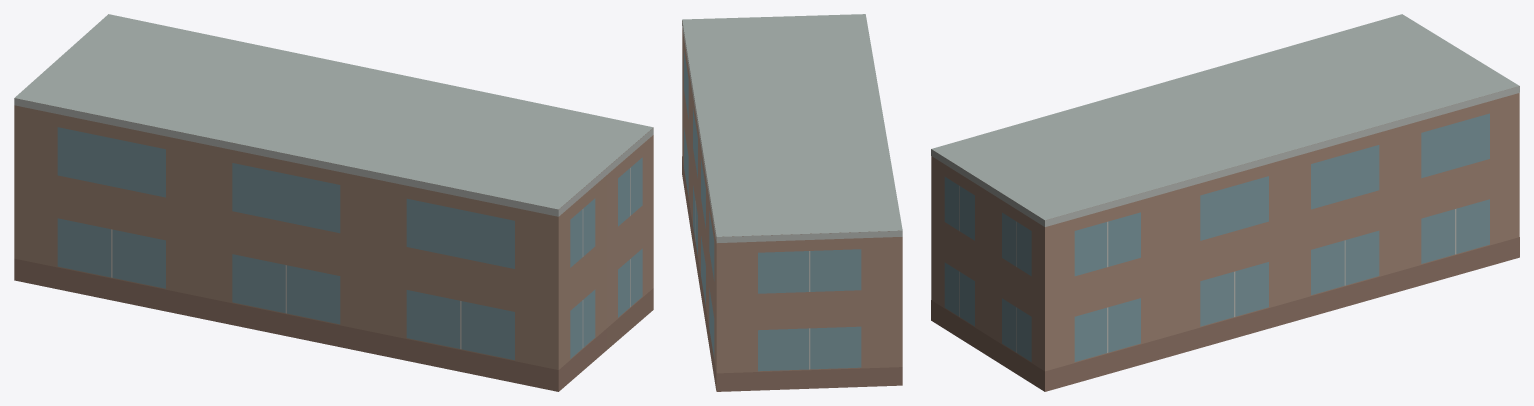
Rendered from survey-upis-32585681.glb.
The picture shows the model from 3 angles, left to right: view 1: azimuth 30°, elevation 25°; view 2: azimuth 150°, elevation 25°; view 3: azimuth 270°, elevation 25°; orthographic projection. The views are drawn at different scales.
Visible parts, largest first — view 1: survey-upis-32585681.tmp; view 2: survey-upis-32585681.tmp; view 3: survey-upis-32585681.tmp.
Part boxes in pixels (x1,y1,x2,y2): survey-upis-32585681.tmp: [14, 14, 653, 391]; survey-upis-32585681.tmp: [682, 14, 902, 391]; survey-upis-32585681.tmp: [931, 14, 1519, 391].
Bounding box in the file's own units: 15.74 × 6.1 × 18.98.
